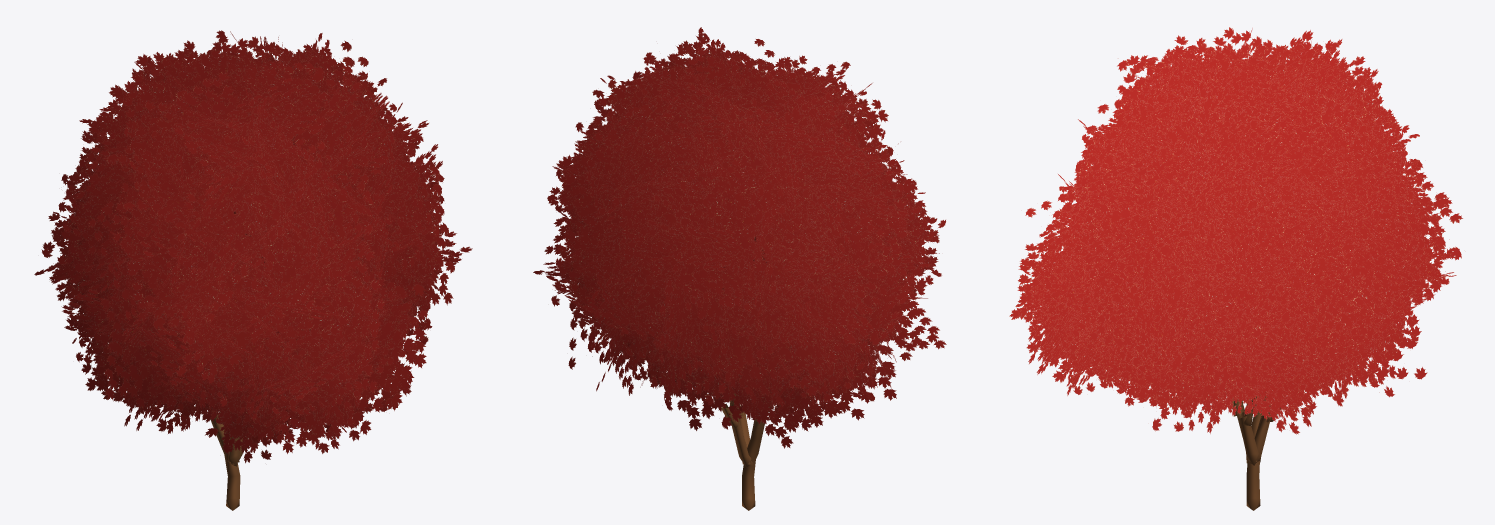
Rendered from Maple tree.fbx.
3 views of the same model, side by side, from view 1: azimuth 30°, elevation 25°; view 2: azimuth 150°, elevation 25°; view 3: azimuth 270°, elevation 25° (orthographic). The views are drawn at different scales.
Visible parts, largest first — view 1: tree; view 2: tree; view 3: tree.
Part boxes in pixels (x1,y1,x2,y2): tree: (34, 30, 472, 510); tree: (533, 27, 946, 510); tree: (1009, 27, 1462, 510).
Bounding box in the file's own units: 573 × 665 × 610.
